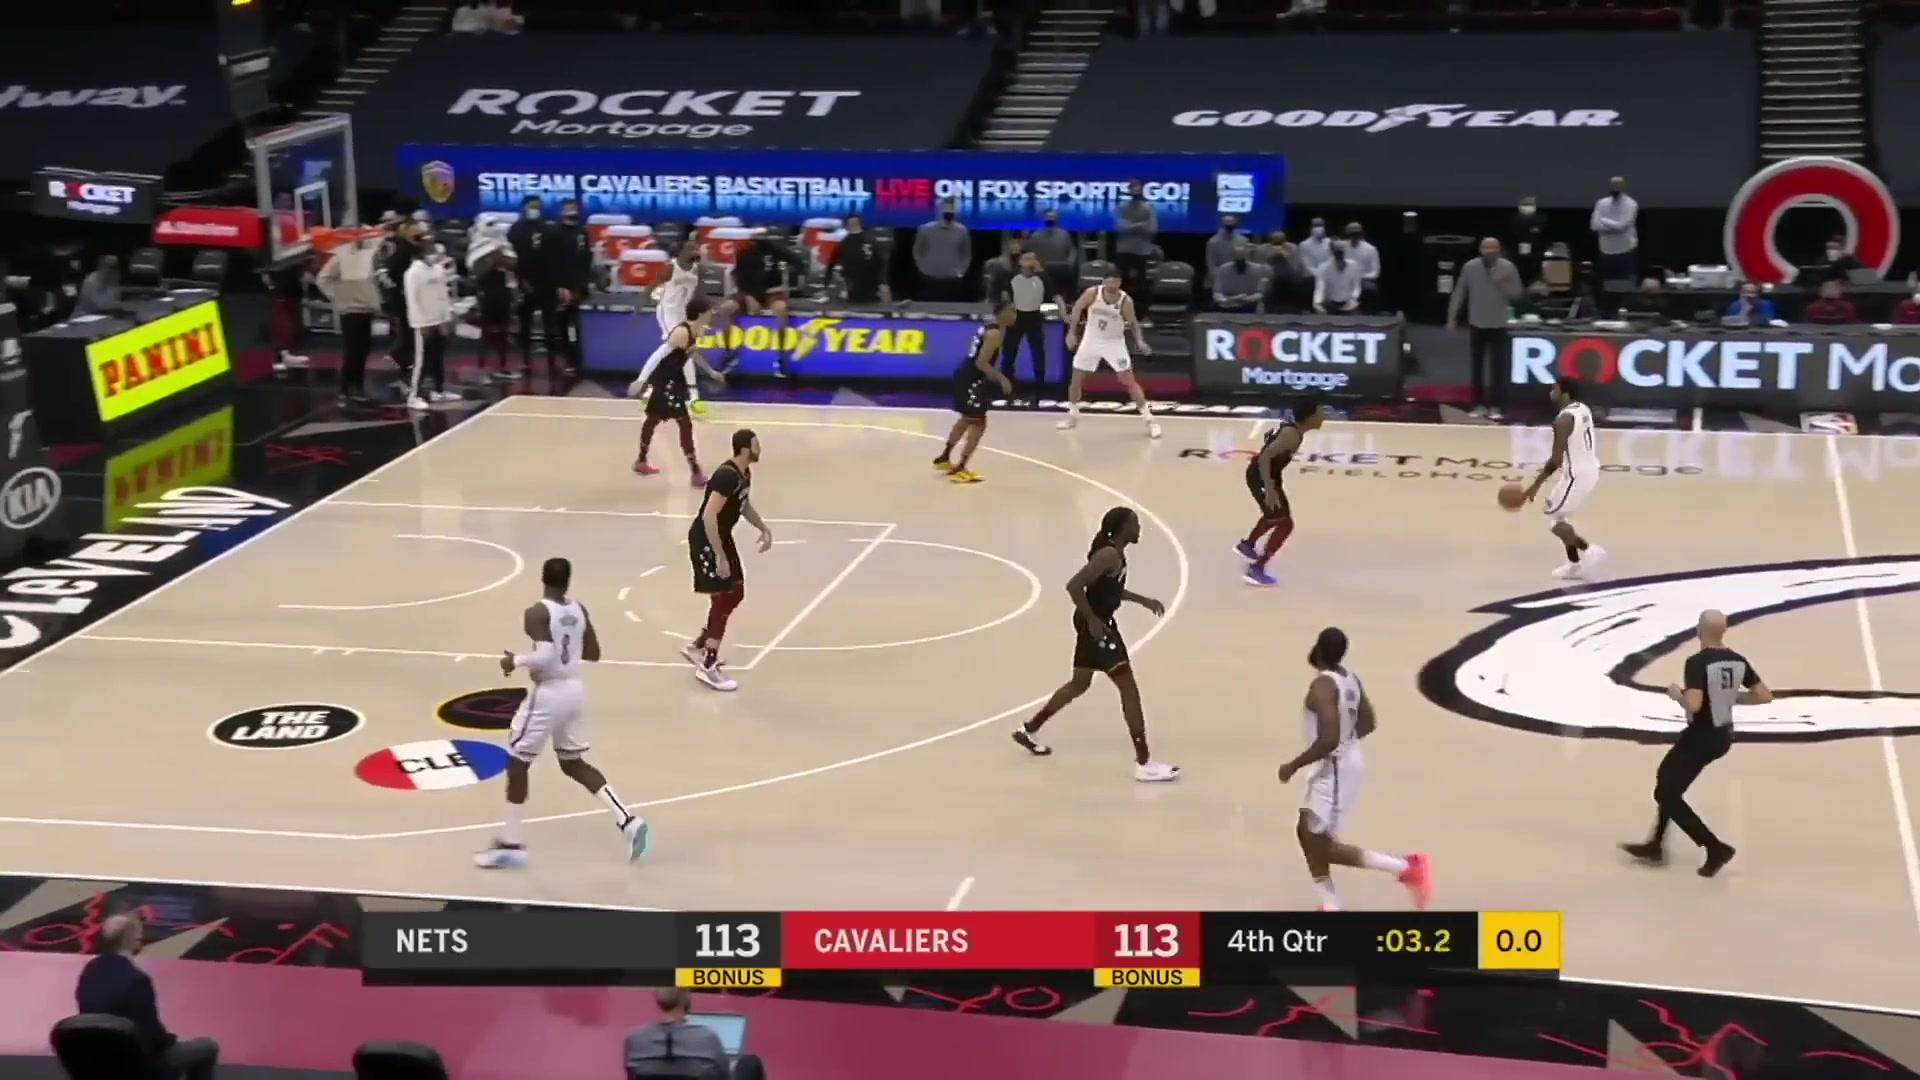no_foul: (610, 235, 739, 488)
